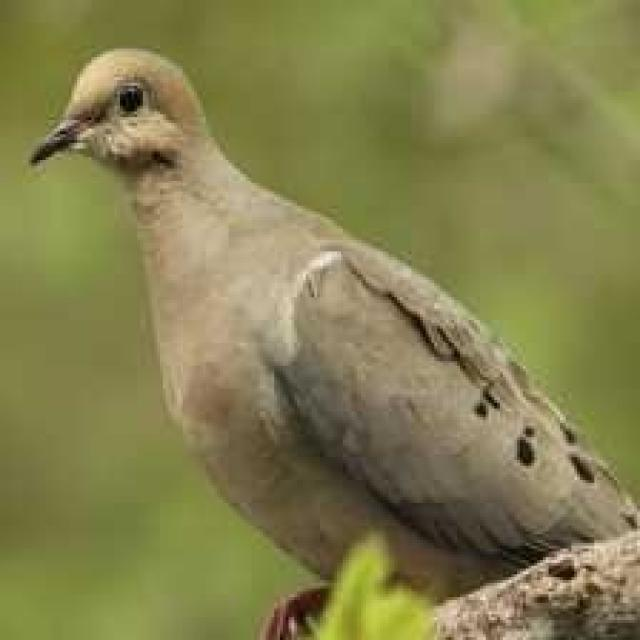bird: (20, 38, 640, 629)
